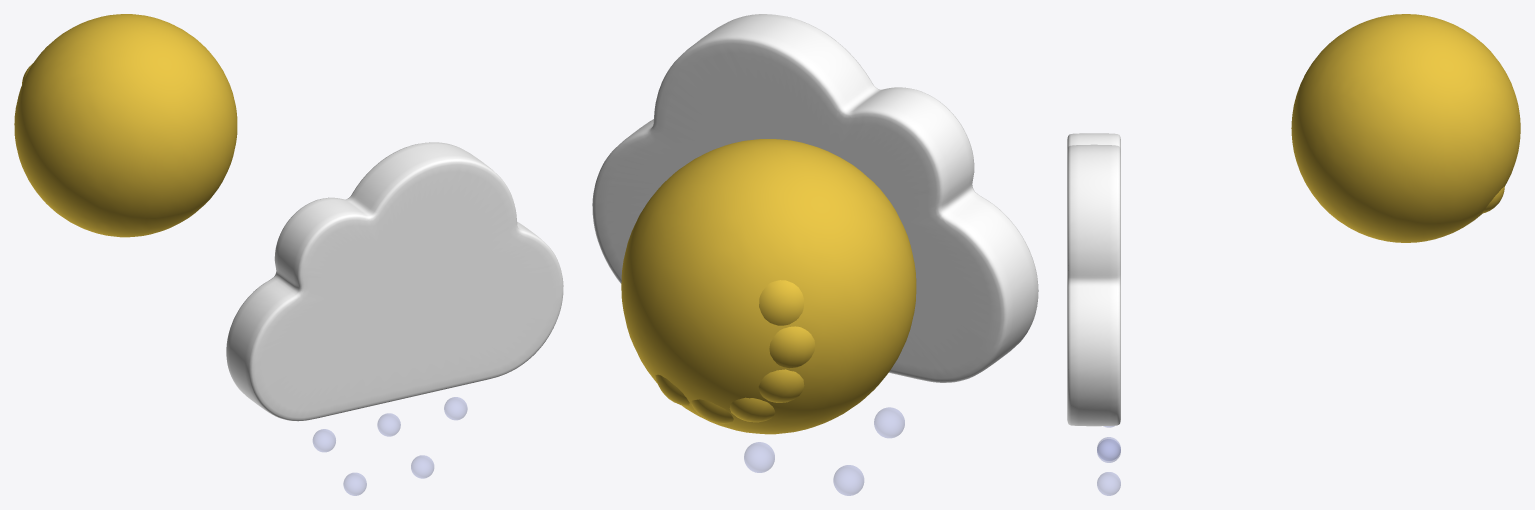
File: weather.glb
3 renders of one model, left to right at view 1: azimuth 30°, elevation 25°; view 2: azimuth 150°, elevation 25°; view 3: azimuth 270°, elevation 25°, orthographic. The views are drawn at different scales.
Parts seen in each view (by area): view 1: Curve, Roundcube.002; view 2: Roundcube.002, Curve, Roundcube.003, Roundcube.001, Roundcube.004, Roundcube.005, Roundcube.010, Roundcube.011, Roundcube.012, Roundcube.006, Roundcube.007; view 3: Roundcube.002, Curve.
Boxes of the visible parts, left/top/right/bottom form: Curve: left=226, top=142, right=563, bottom=421; Roundcube.002: left=14, top=14, right=237, bottom=237; Roundcube.002: left=621, top=139, right=916, bottom=434; Curve: left=592, top=14, right=1038, bottom=382; Roundcube.003: left=759, top=280, right=803, bottom=325; Roundcube.001: left=769, top=326, right=815, bottom=368; Roundcube.004: left=758, top=369, right=804, bottom=402; Roundcube.005: left=729, top=397, right=774, bottom=422; Roundcube.010: left=874, top=407, right=904, bottom=437; Roundcube.011: left=833, top=465, right=863, bottom=495; Roundcube.012: left=744, top=442, right=774, bottom=472; Roundcube.006: left=691, top=399, right=733, bottom=423; Roundcube.007: left=655, top=374, right=689, bottom=406; Roundcube.002: left=1291, top=14, right=1520, bottom=242; Curve: left=1067, top=133, right=1120, bottom=426.
Bounding box in the file's own units: 2.14 × 2.12 × 2.21.
